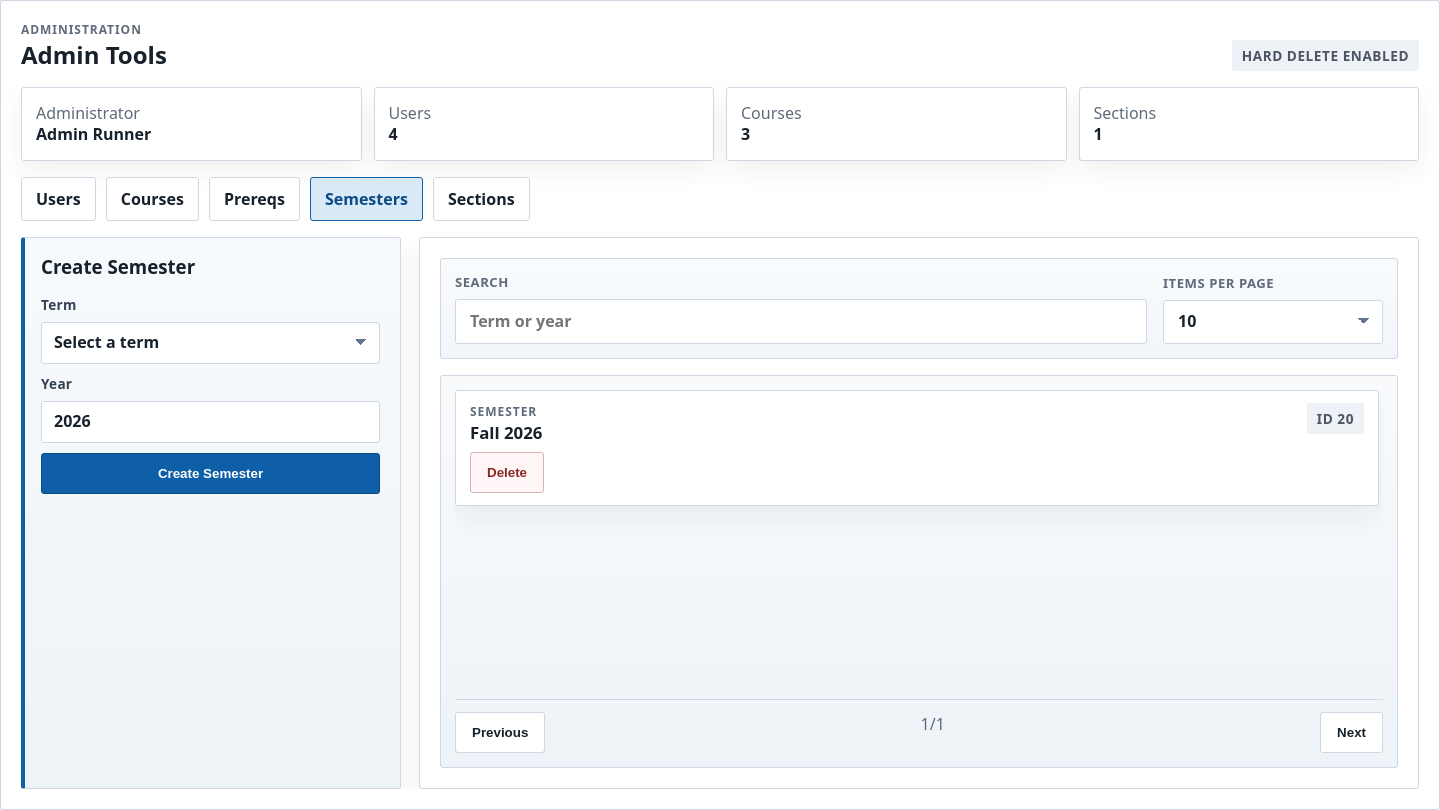
Test: AdminConsolePage › creates a semester and shows local success feedback
Step 1. Select "Spring" in the dropdown labelled "Term" → (210,343), box [41,322,380,364]
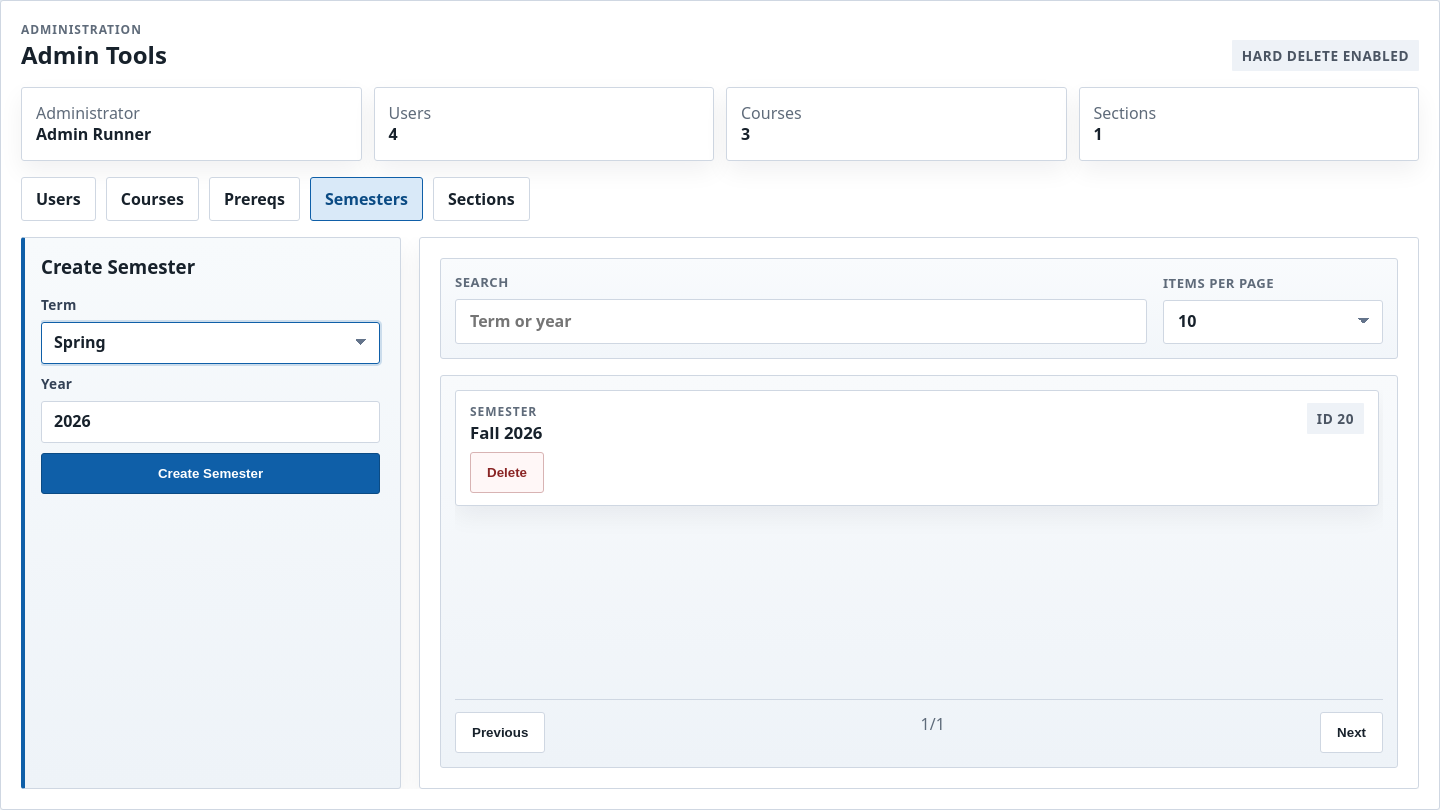
Step 2. Replace the text in the number field labelled "Year" with "2027" → (210,422), box [41,401,380,443]
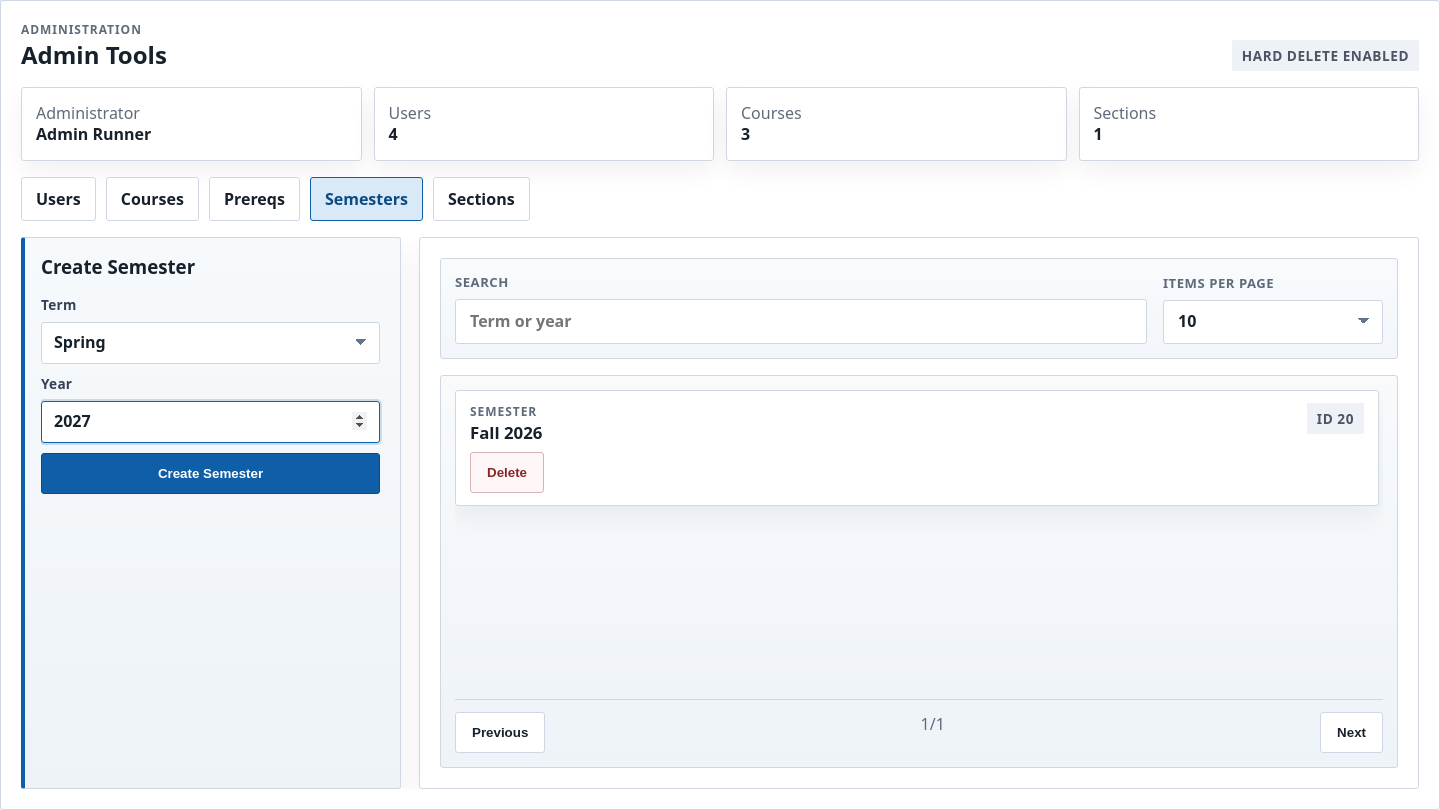
Step 3. Click the button "Create Semester" → (210,473), box [41,453,380,494]
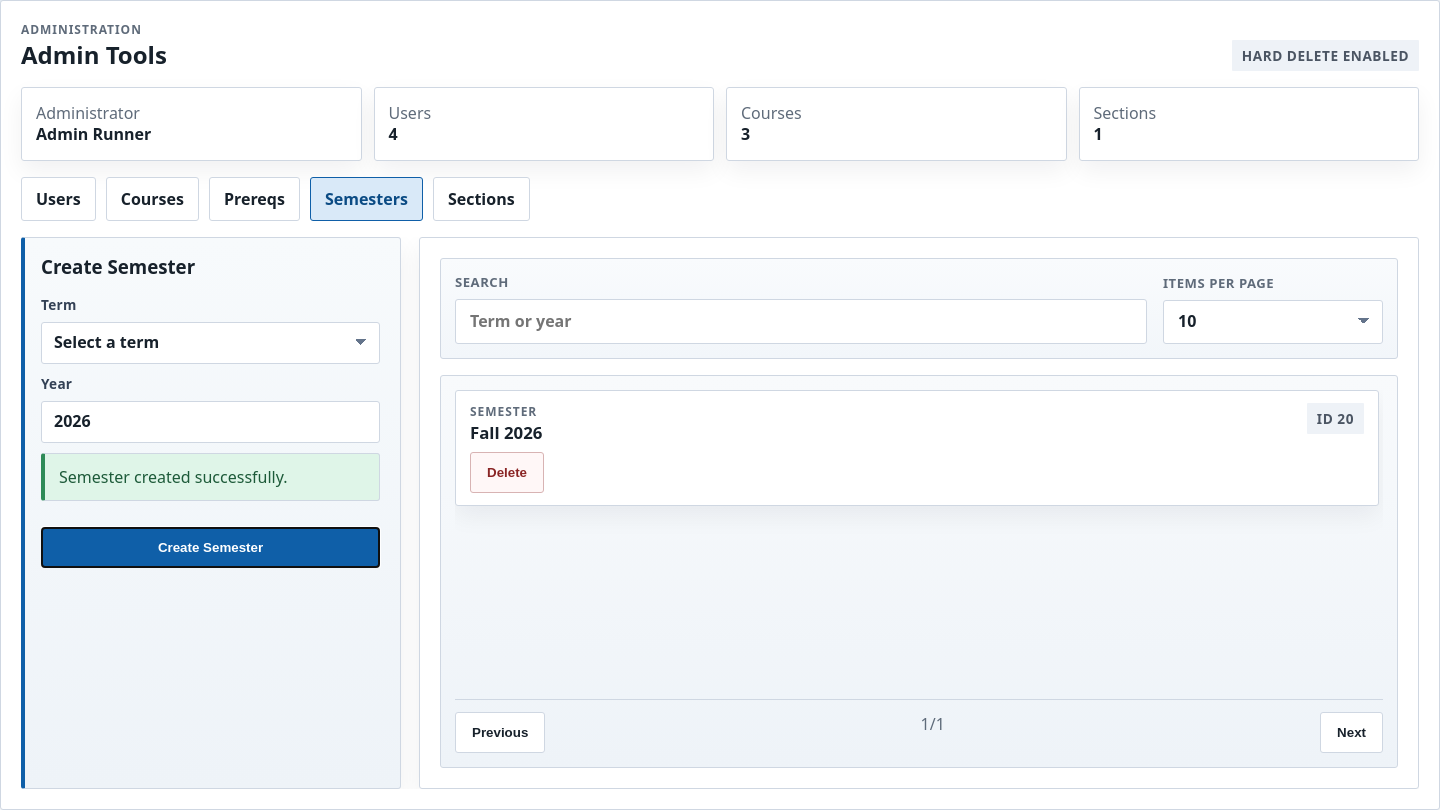
Result: the text "Semester created successfully." is shown at [41,453,380,501]
